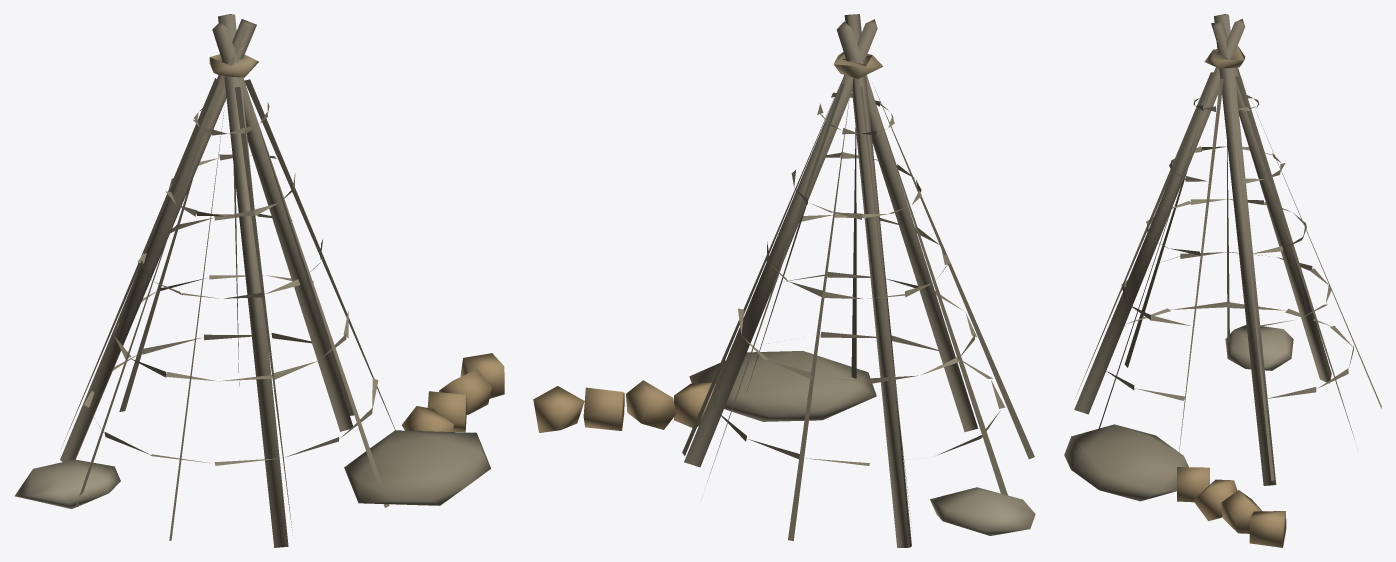
The model's file is drying_tripod_b_lod2.glb.
3 views of the same model, side by side, from view 1: azimuth 30°, elevation 25°; view 2: azimuth 150°, elevation 25°; view 3: azimuth 270°, elevation 25° (orthographic). The views are drawn at different scales.
Visible parts, largest first — view 1: Surface.001; view 2: Surface.001; view 3: Surface.001.
Part boxes in pixels (x1=…): Surface.001: x1=14, y1=14, x2=504, y2=547; Surface.001: x1=533, y1=14, x2=1035, y2=547; Surface.001: x1=1064, y1=14, x2=1381, y2=547.
Bounding box in the file's own units: 3.01 × 2.73 × 1.92.
